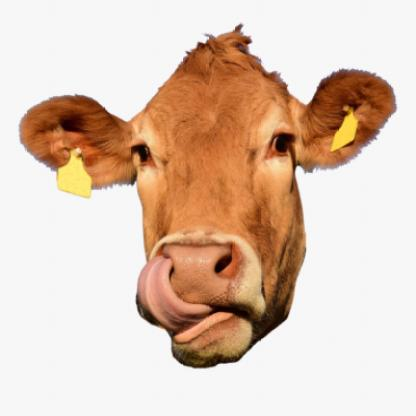lower: (200, 330, 222, 348)
mouth: (138, 237, 268, 366)
upper: (192, 253, 209, 279)
